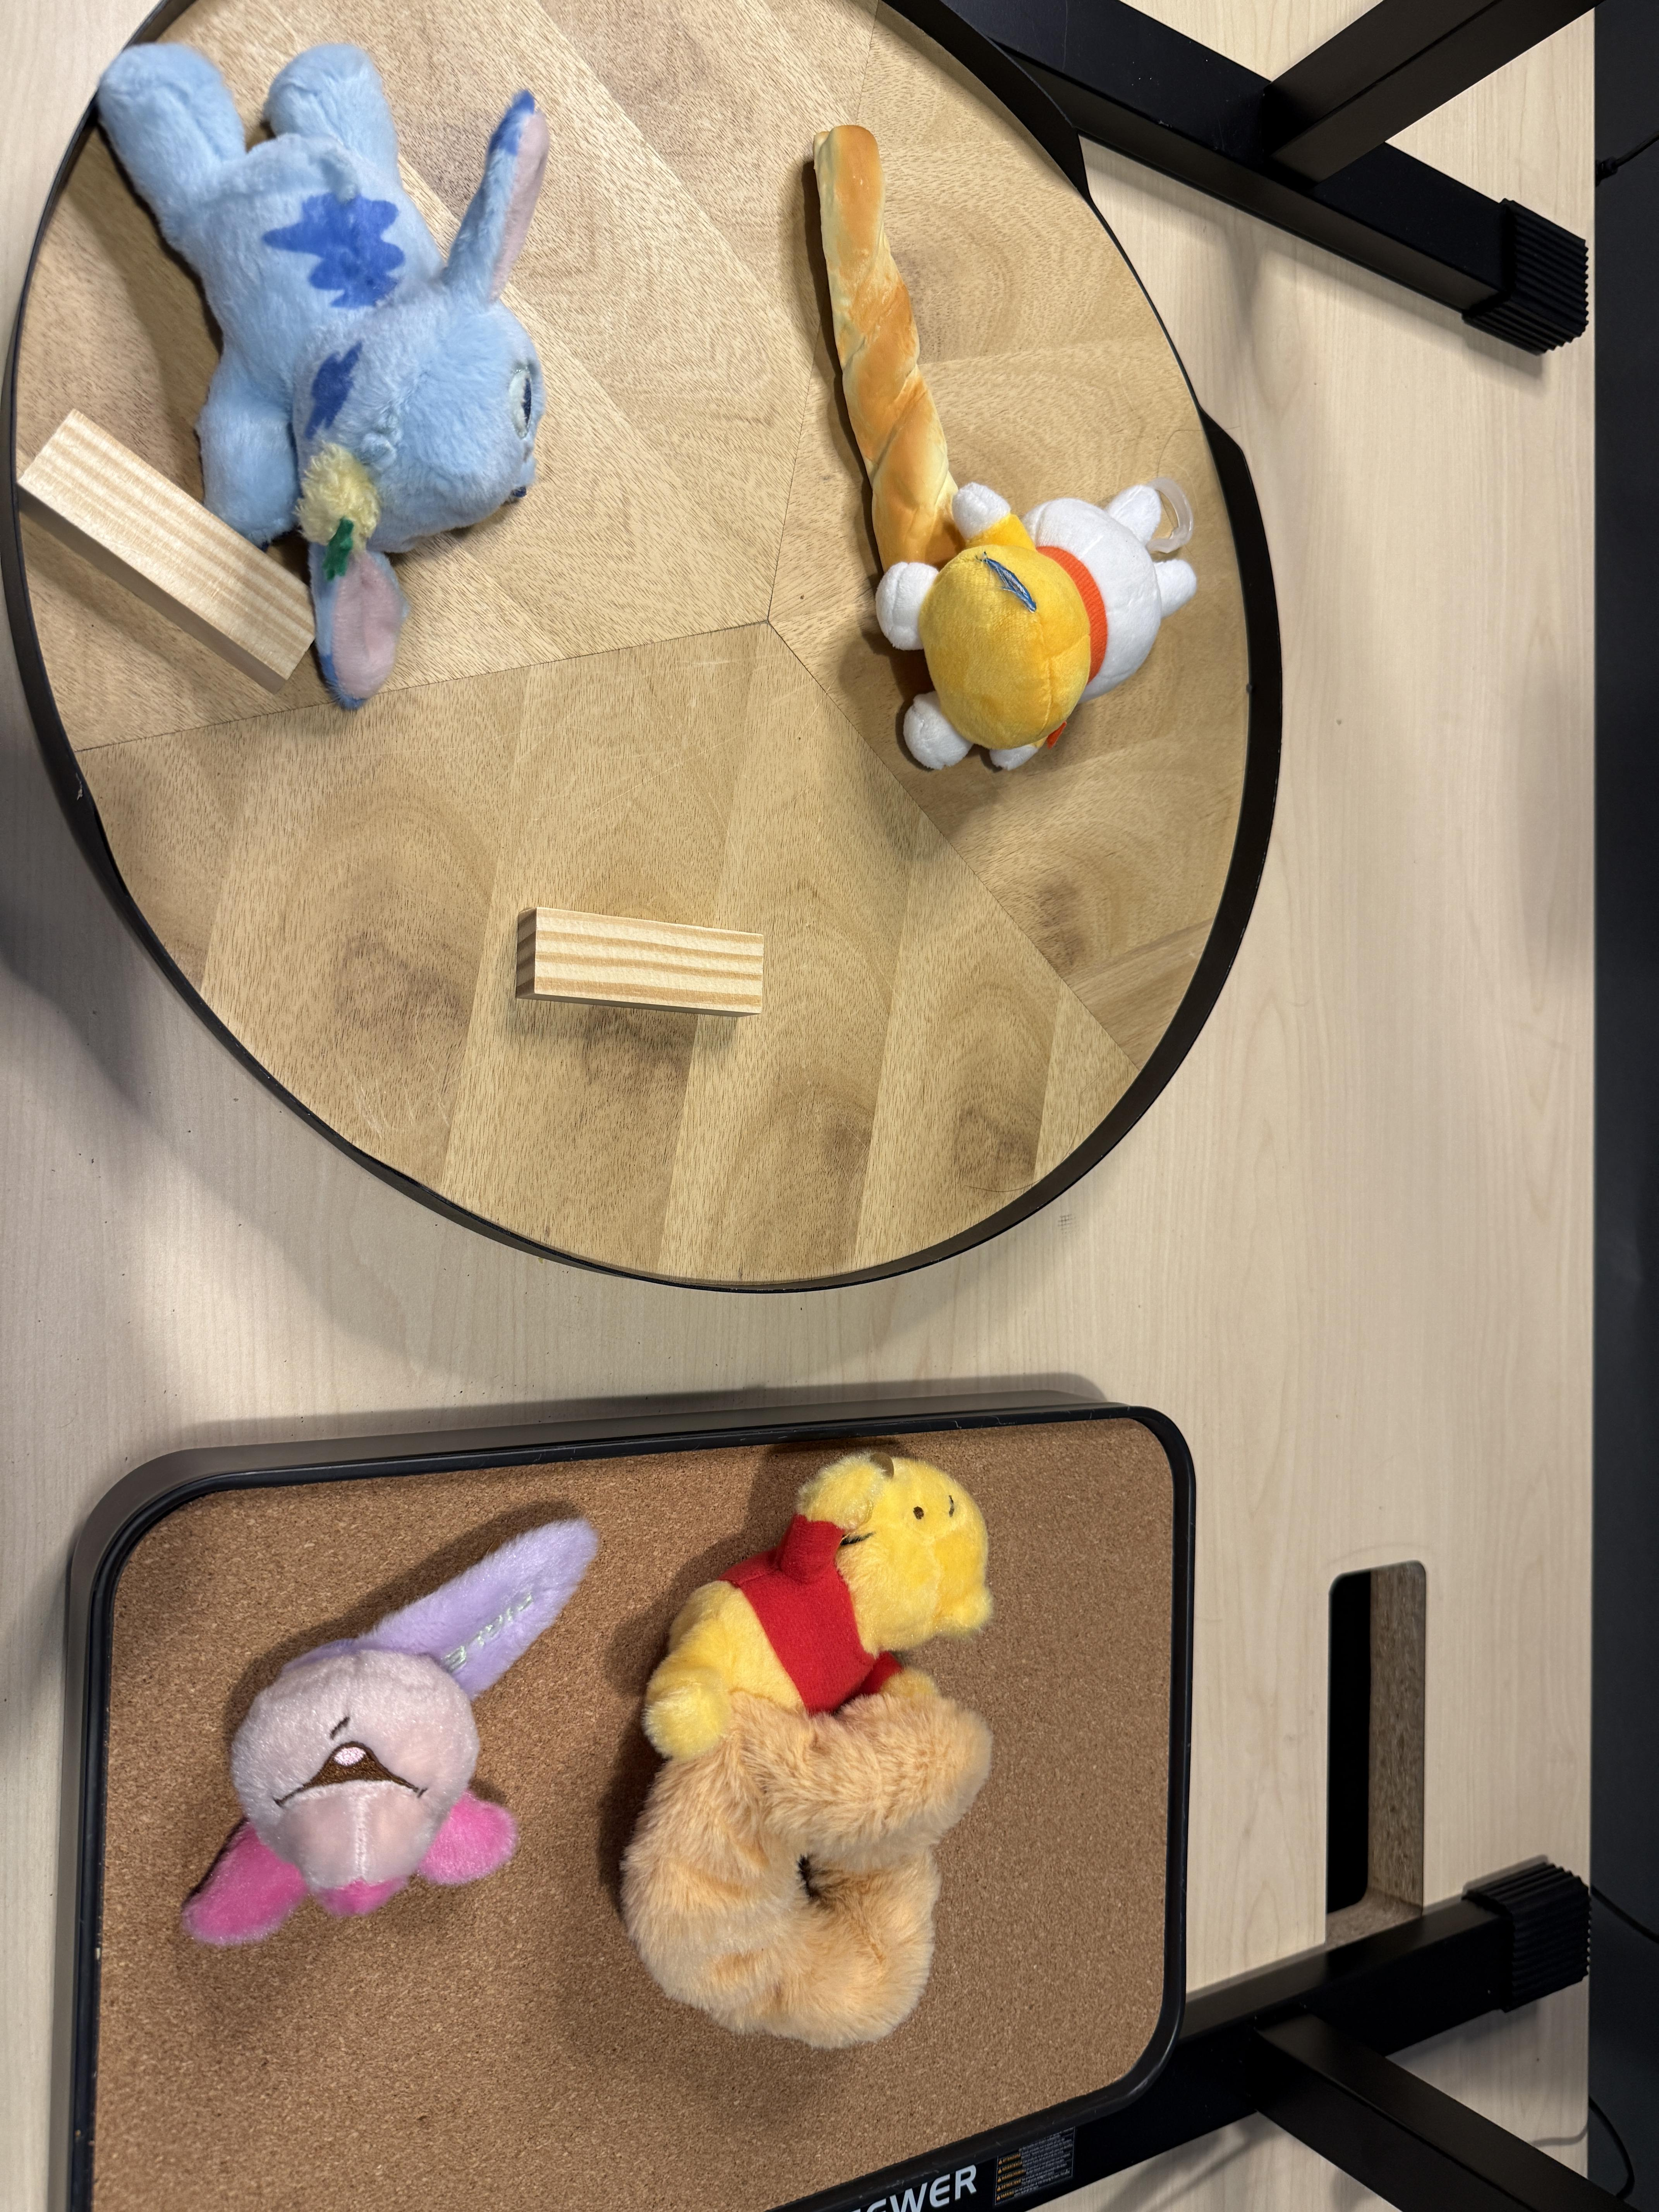block: (19, 421, 328, 695), (526, 902, 772, 1028)
bread: (789, 120, 979, 570)
doll: (98, 47, 580, 702), (620, 1463, 1032, 2059), (171, 1522, 599, 1946), (903, 462, 1211, 772)
